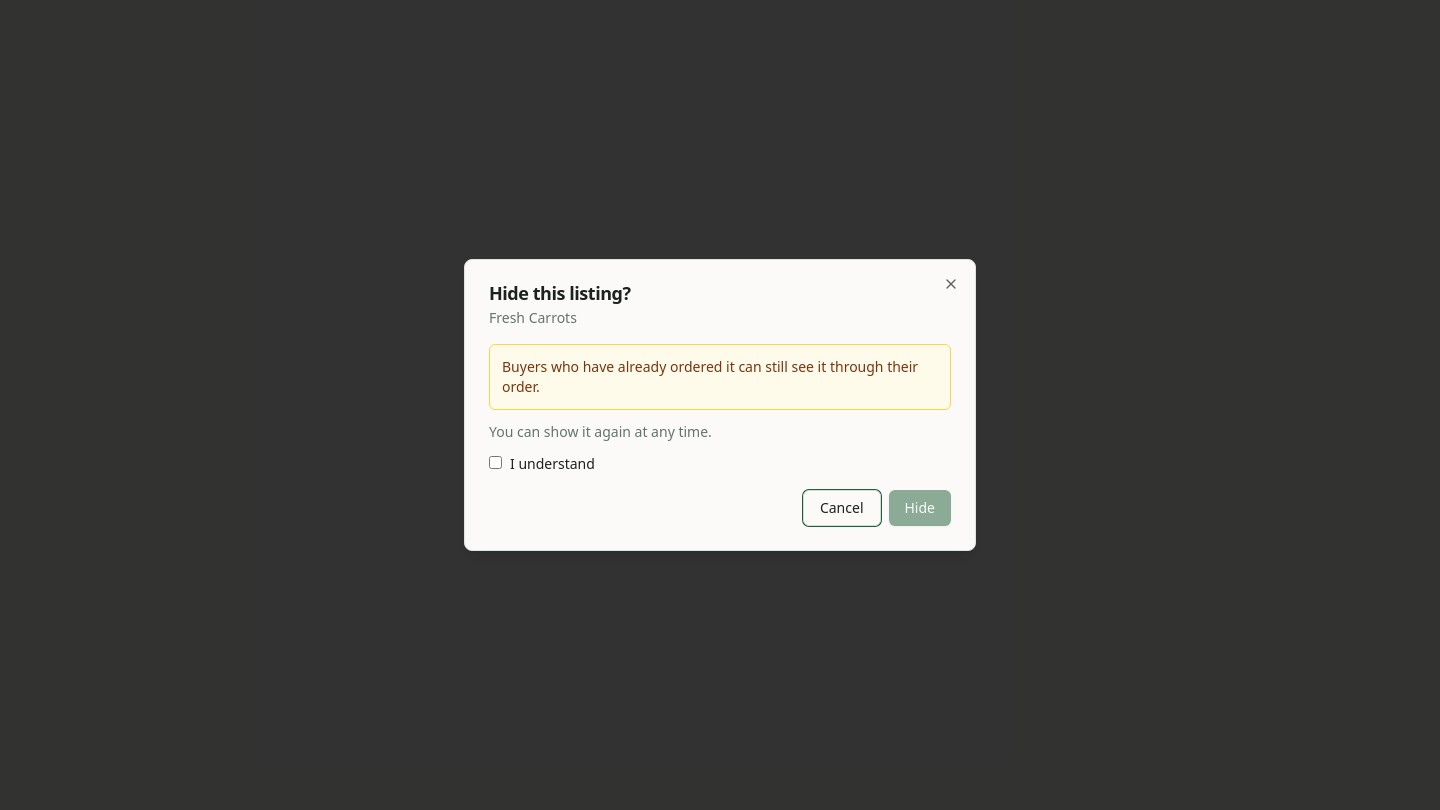
HideArchiveDialog › shows the backend's error and stays open when the action fails
Click the checkbox labelled "I understand".
click(496, 462)  # box [489, 456, 502, 469]
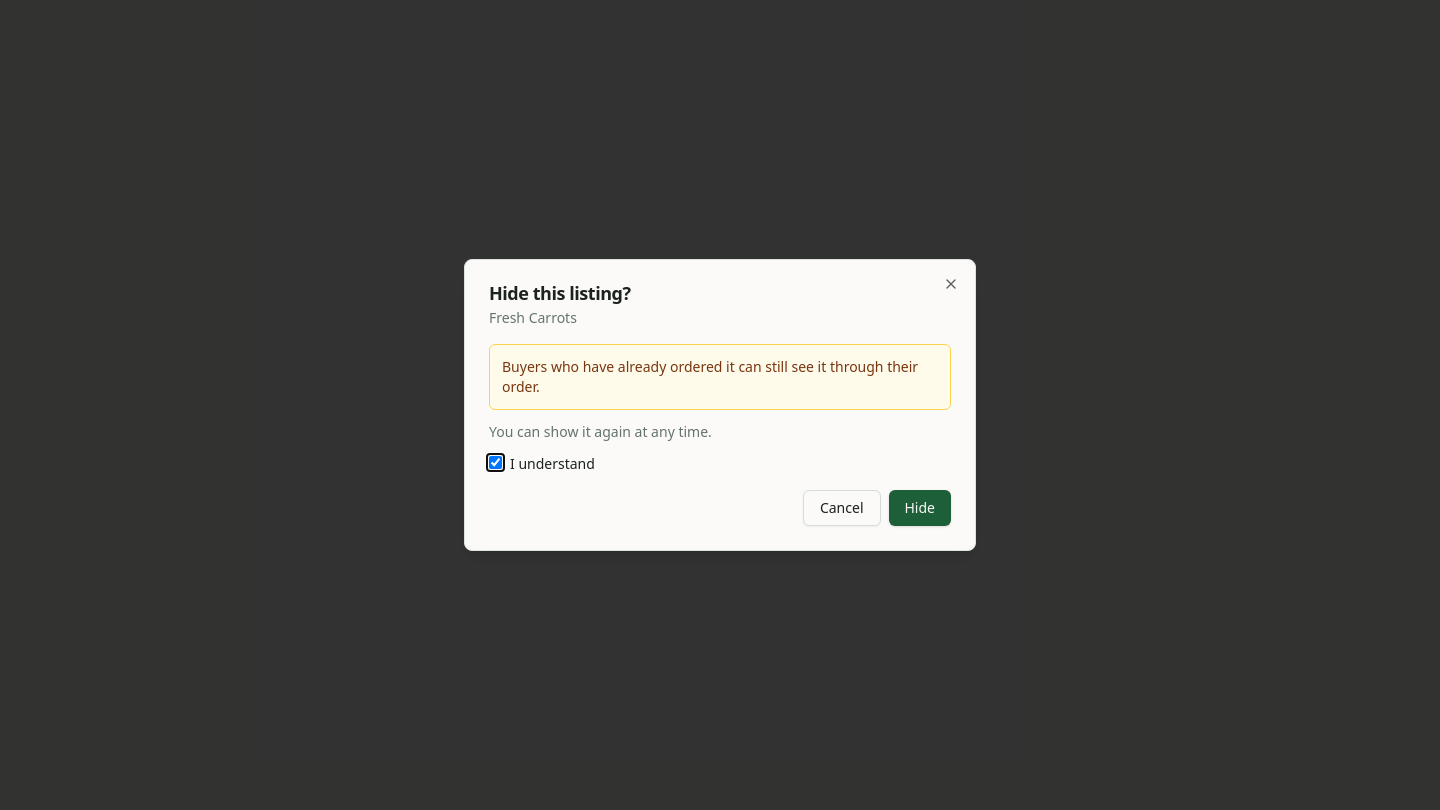
Click the button "Hide".
click(920, 508)  # box [888, 490, 951, 526]
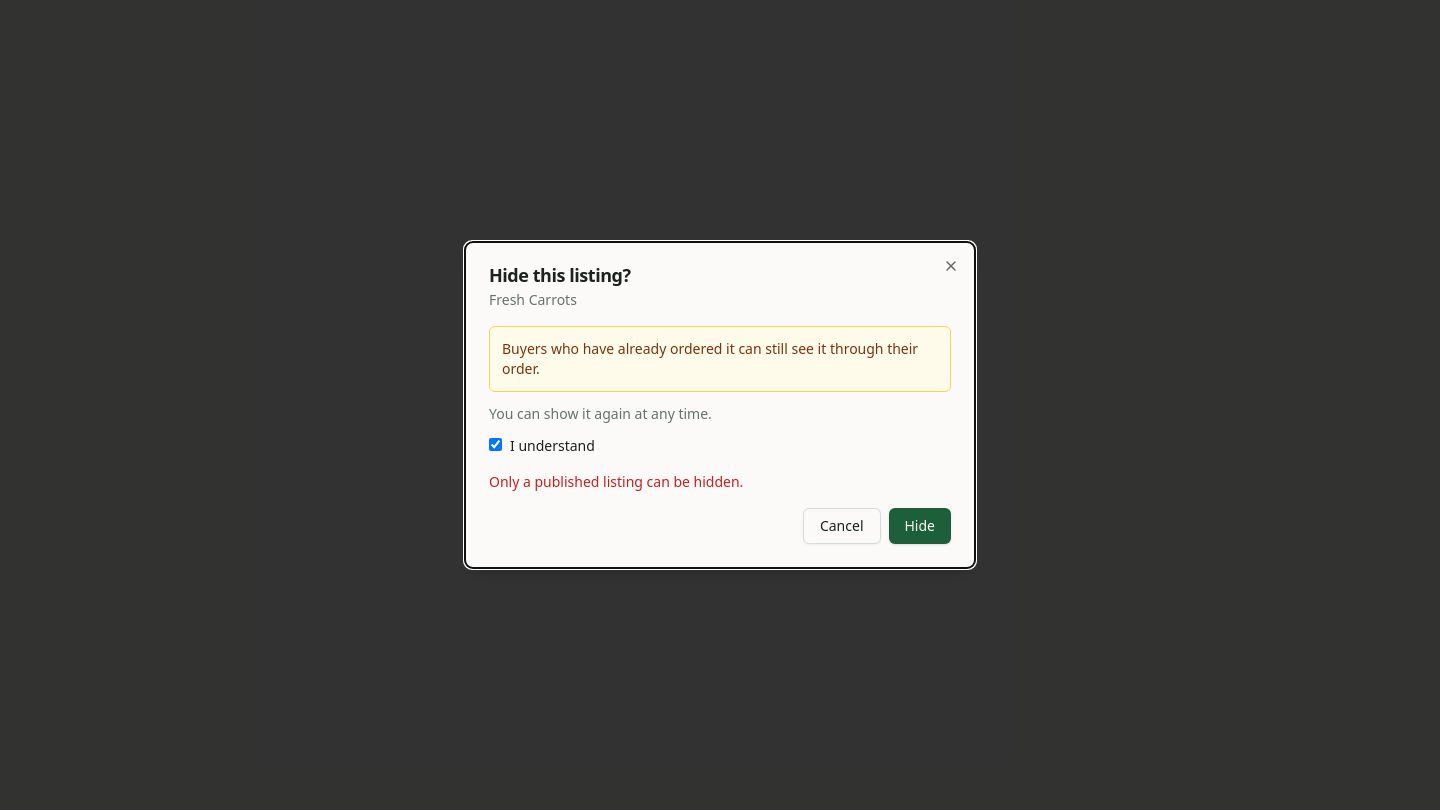
Expected: the message reads "Only a published listing can be hidden.", [489, 472, 743, 491]
